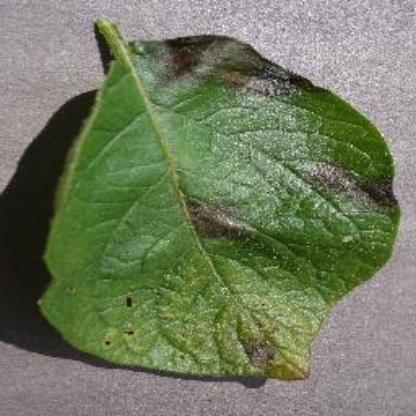Late-Blight: (31, 10, 406, 402)
